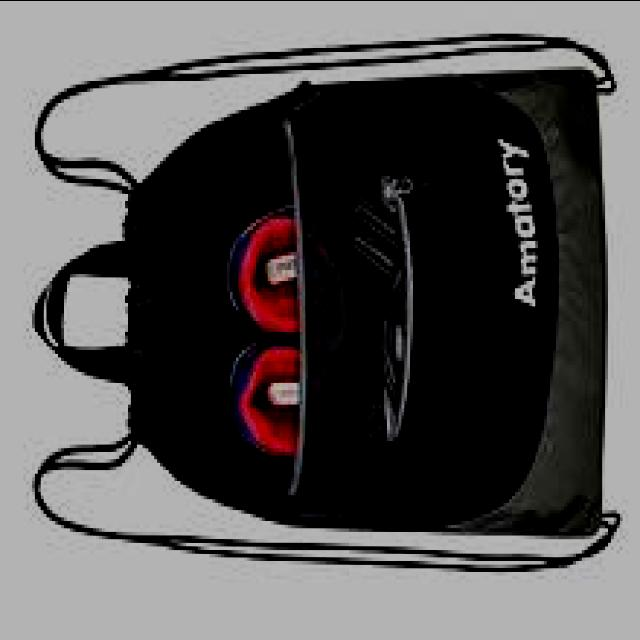backpack: (30, 34, 618, 576)
